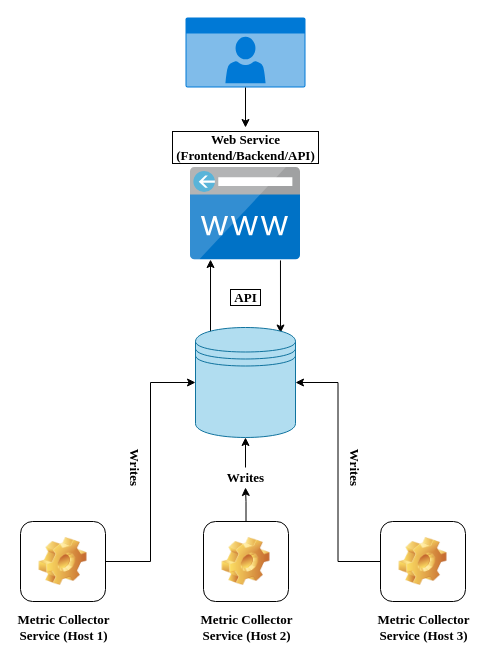
The diagram is 486 pixels wide and 660 high, and some of its shapes have lost their labels. Each missing label, with the box of its shape:
Influx Database (NoSQL): (194, 326, 296, 438)
User: (185, 17, 305, 87)
